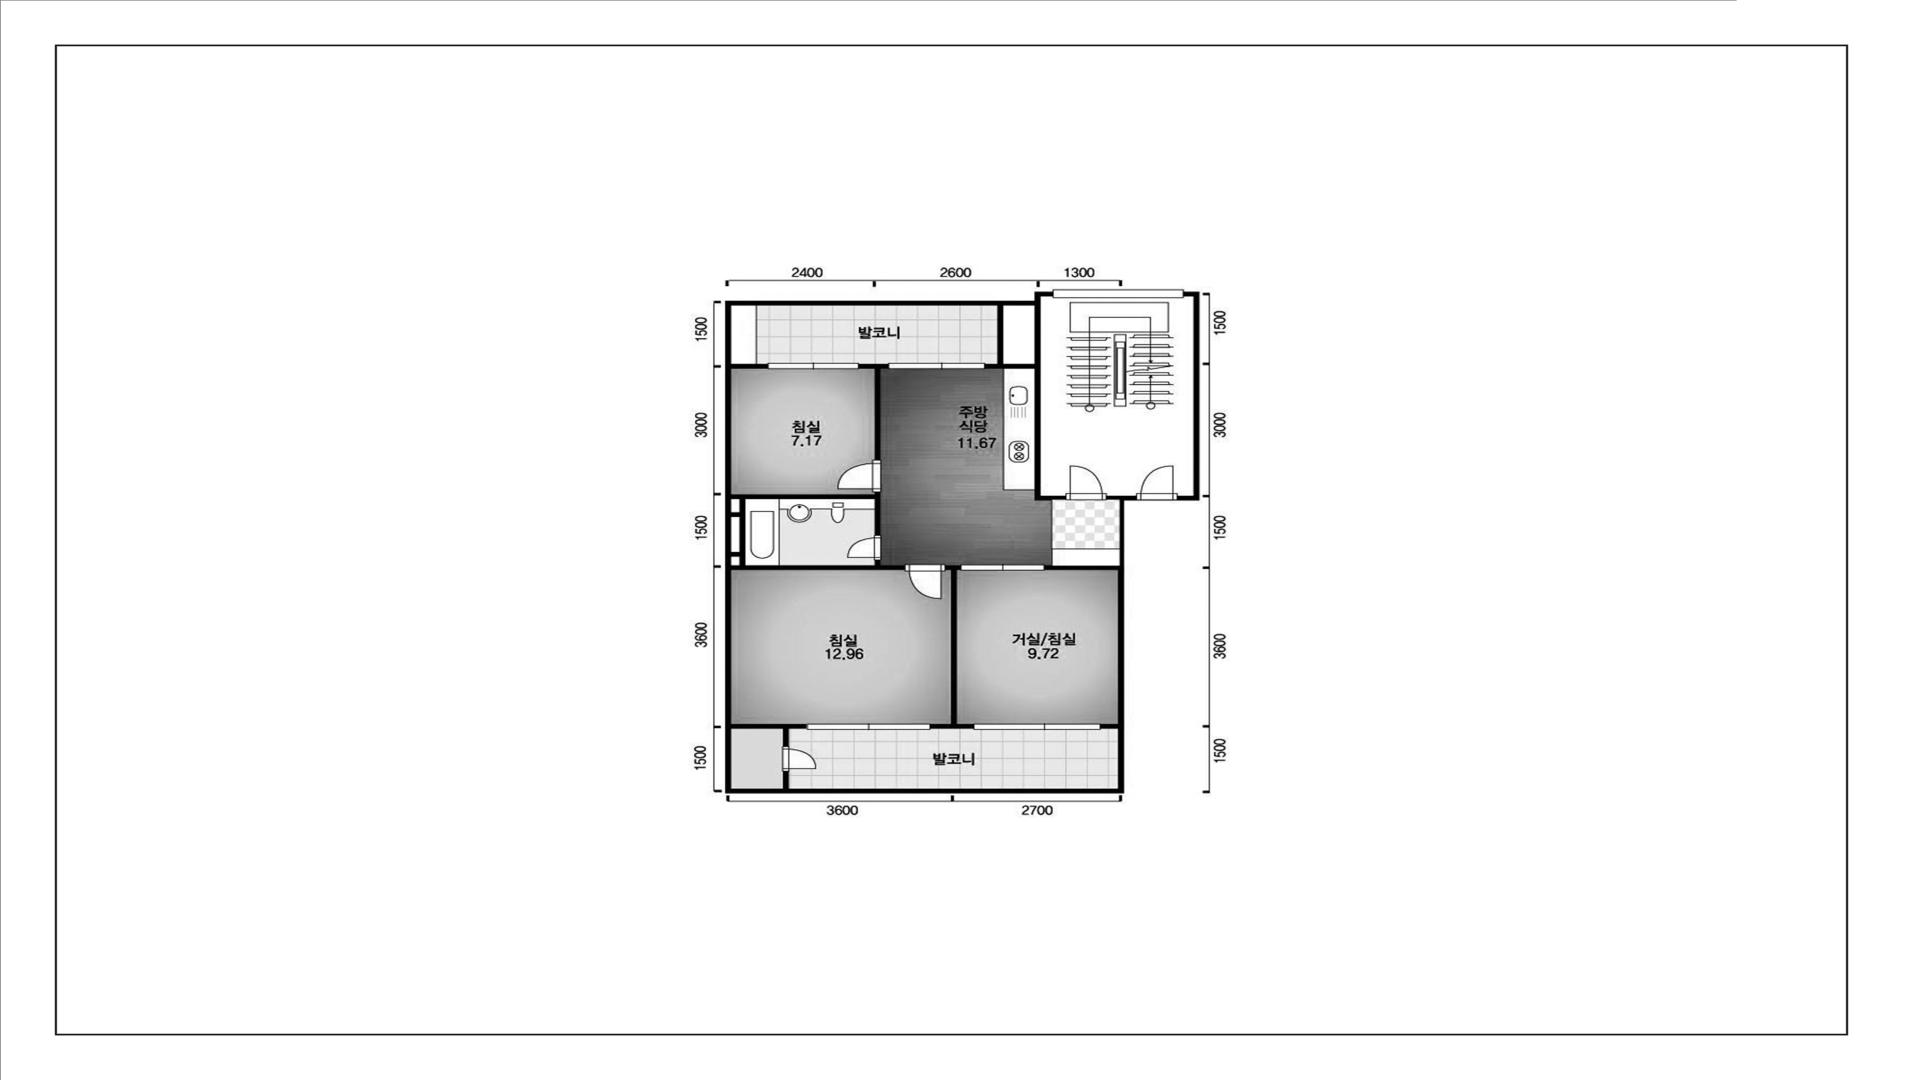background: (0, 0, 1920, 1080)
door: (1136, 465, 1177, 500), (1066, 465, 1107, 500), (837, 460, 881, 492), (905, 564, 945, 599), (846, 535, 881, 560), (782, 747, 817, 771), (974, 724, 1100, 730), (807, 724, 930, 730), (961, 564, 1044, 571), (889, 363, 985, 369), (768, 363, 858, 369)
wall: (725, 292, 1137, 793), (731, 492, 905, 570), (930, 565, 974, 729), (1177, 292, 1199, 501), (985, 306, 1035, 369), (858, 364, 889, 460), (731, 724, 807, 747), (1044, 565, 1118, 570), (731, 364, 768, 369), (783, 771, 789, 789), (1100, 724, 1118, 729)
window: (1053, 290, 1184, 298)
